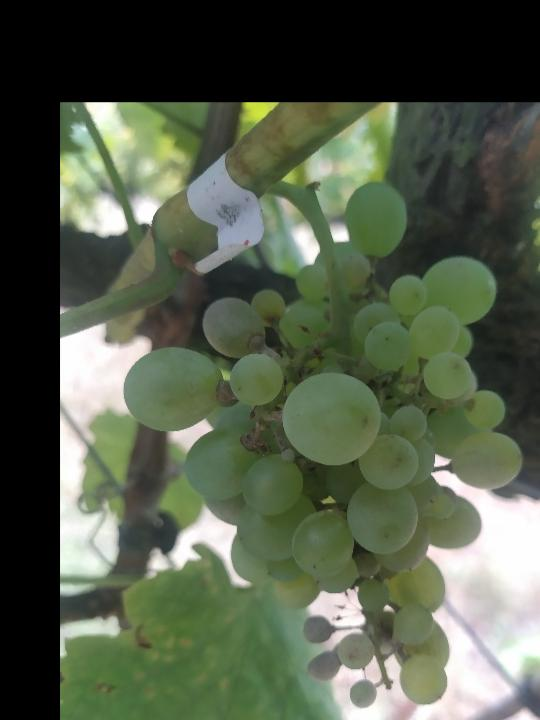grape: (120, 180, 528, 711)
